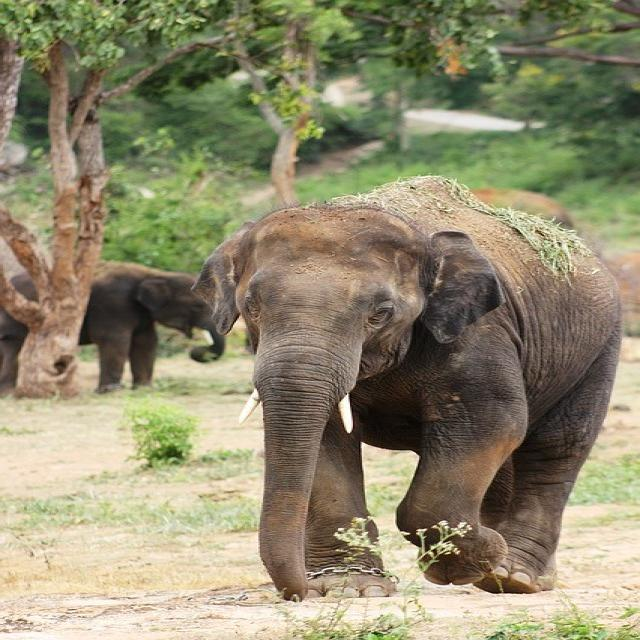elephant: (195, 178, 620, 599)
